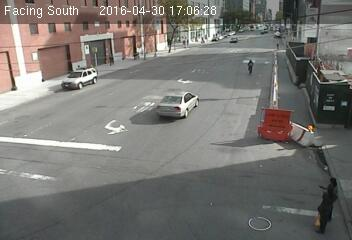neg: (87, 123, 121, 168), (27, 185, 58, 227), (126, 182, 157, 223), (264, 109, 291, 144), (157, 91, 182, 124), (67, 60, 88, 87), (329, 90, 344, 110)
pos: (310, 183, 349, 234), (244, 58, 256, 75), (107, 52, 118, 66), (275, 41, 282, 51)
